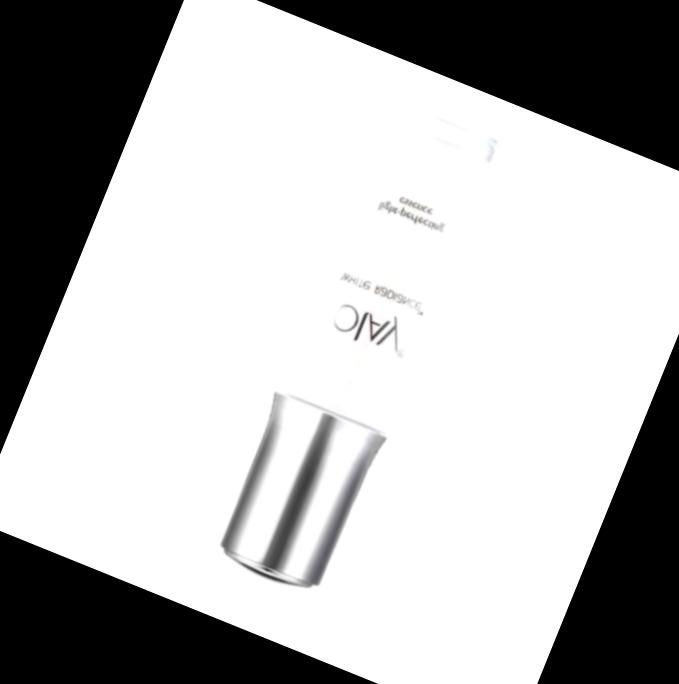cosmetic: (205, 103, 504, 602)
